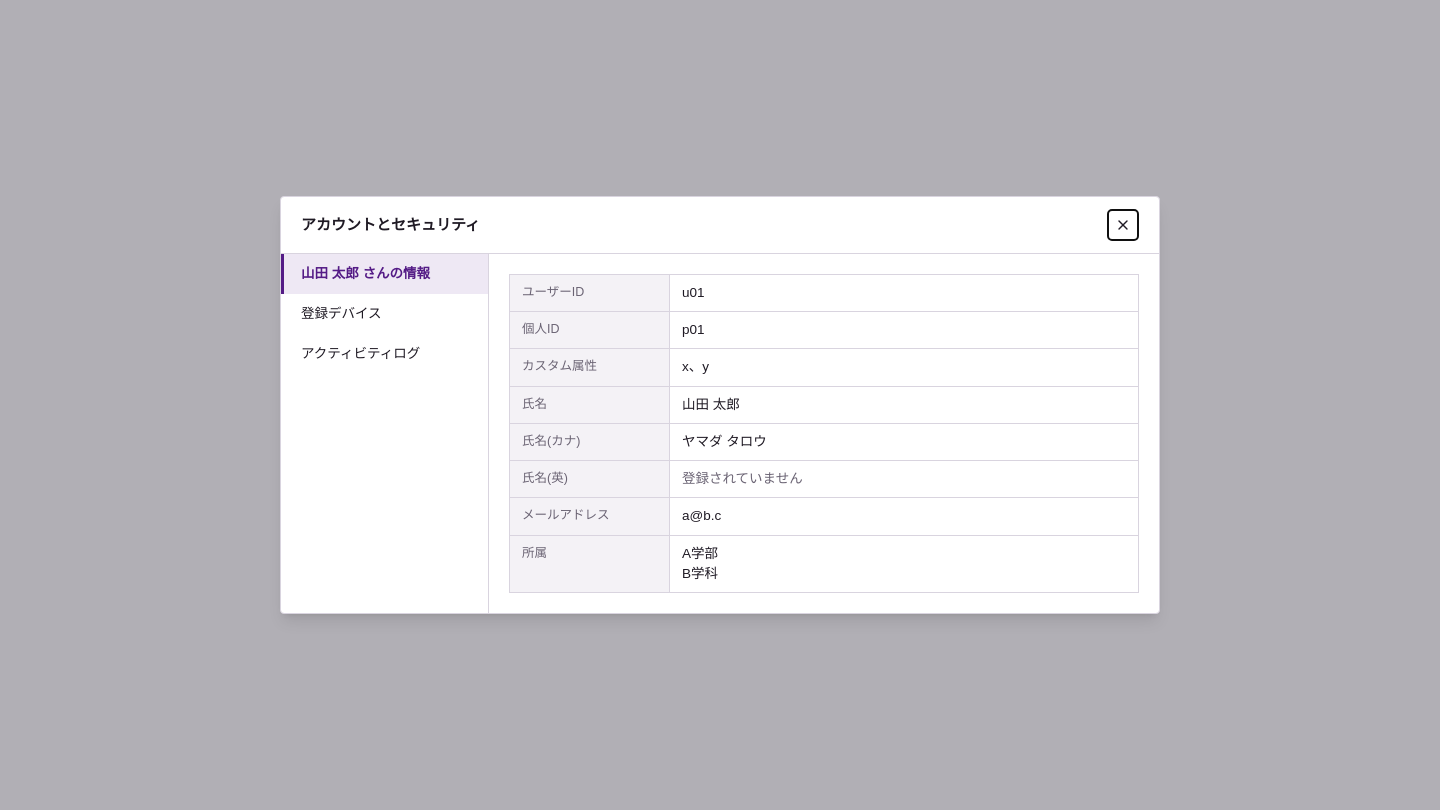
Test: 登録デバイス: 失敗したら表示する
Click the tab "登録デバイス" at (384, 314), box [281, 294, 488, 334]
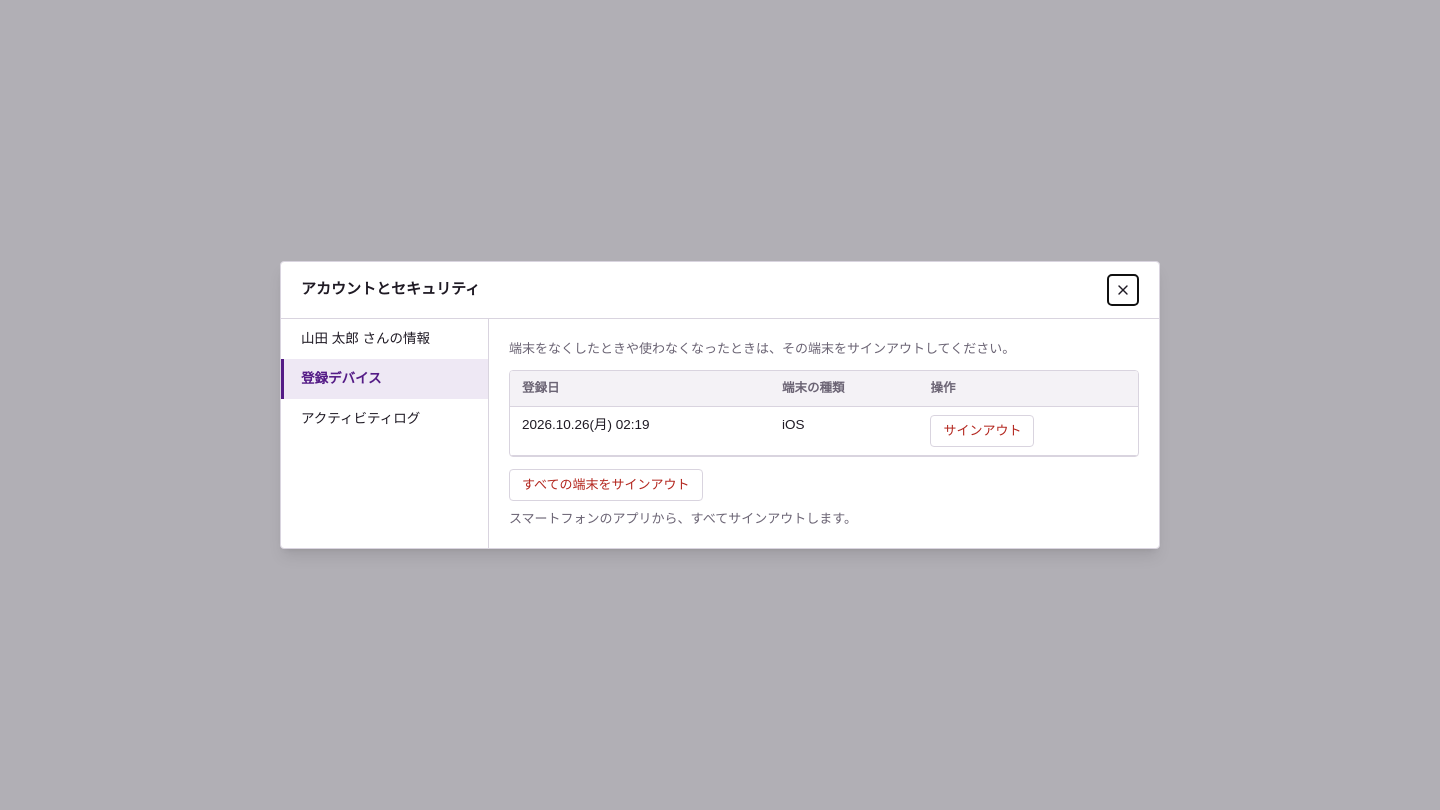
Click the button "サインアウト" at (982, 431), box [930, 415, 1034, 447]
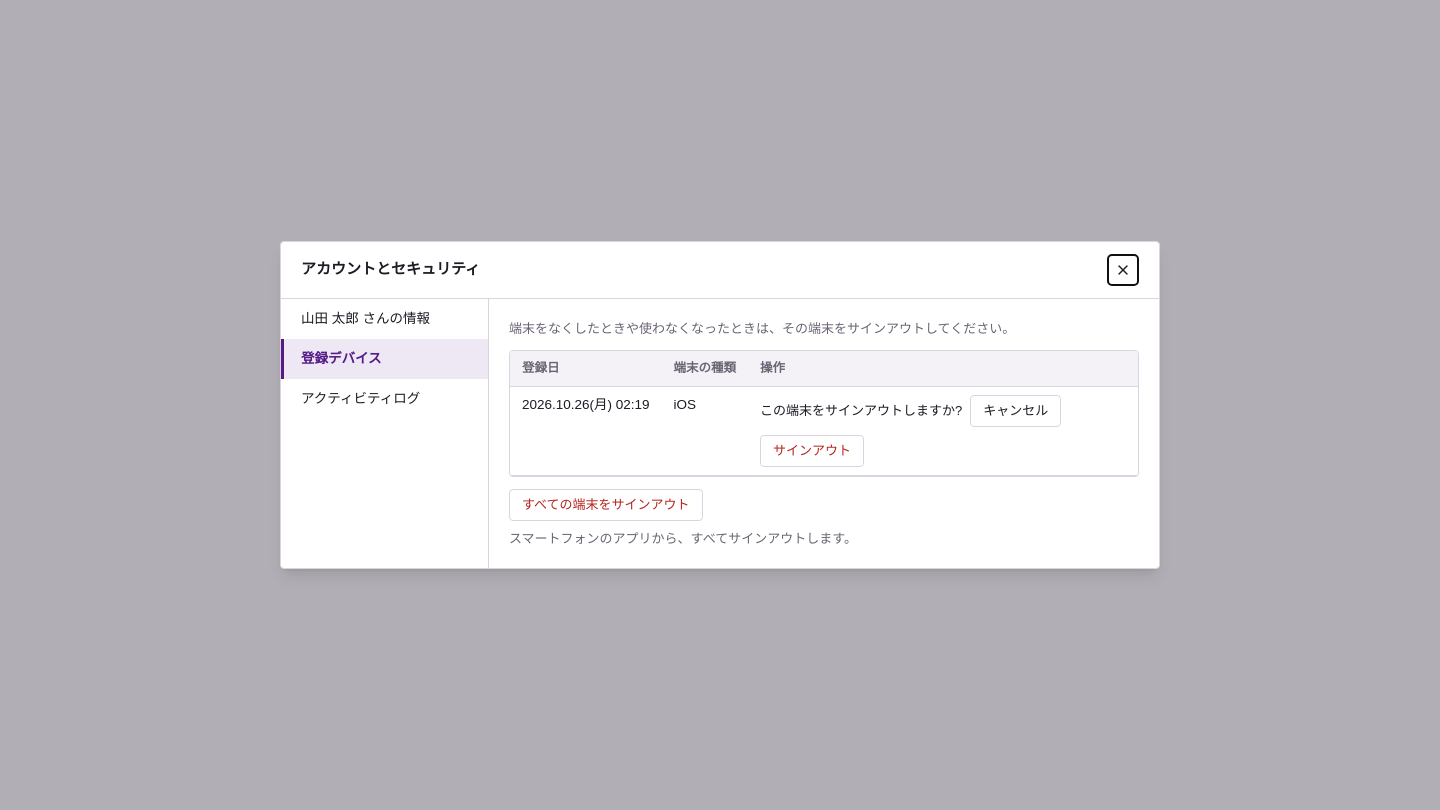
Click the button "サインアウト" at (812, 451), box [760, 435, 864, 467]
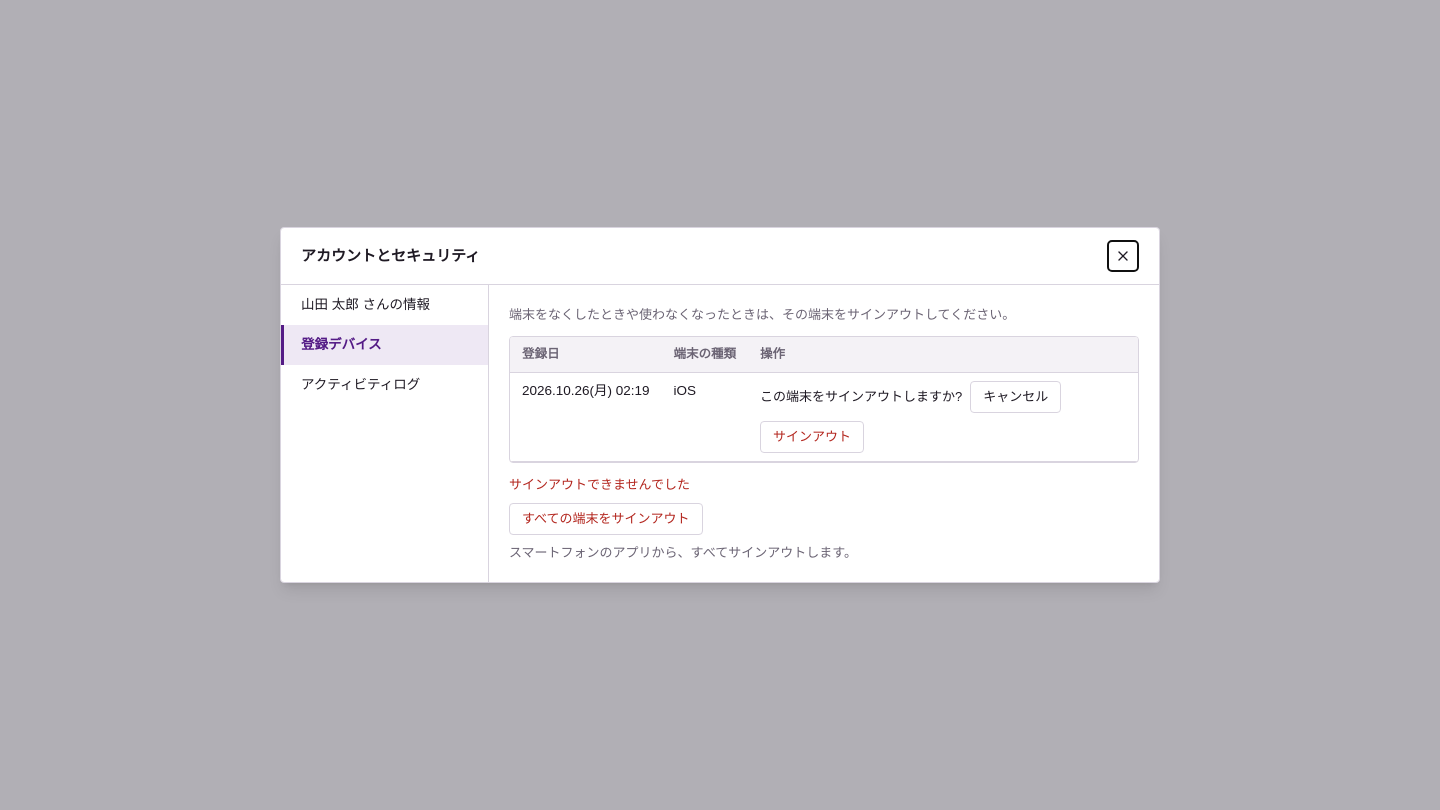
Check: the text "サインアウトできませんでした" is shown, box [509, 475, 690, 495]
